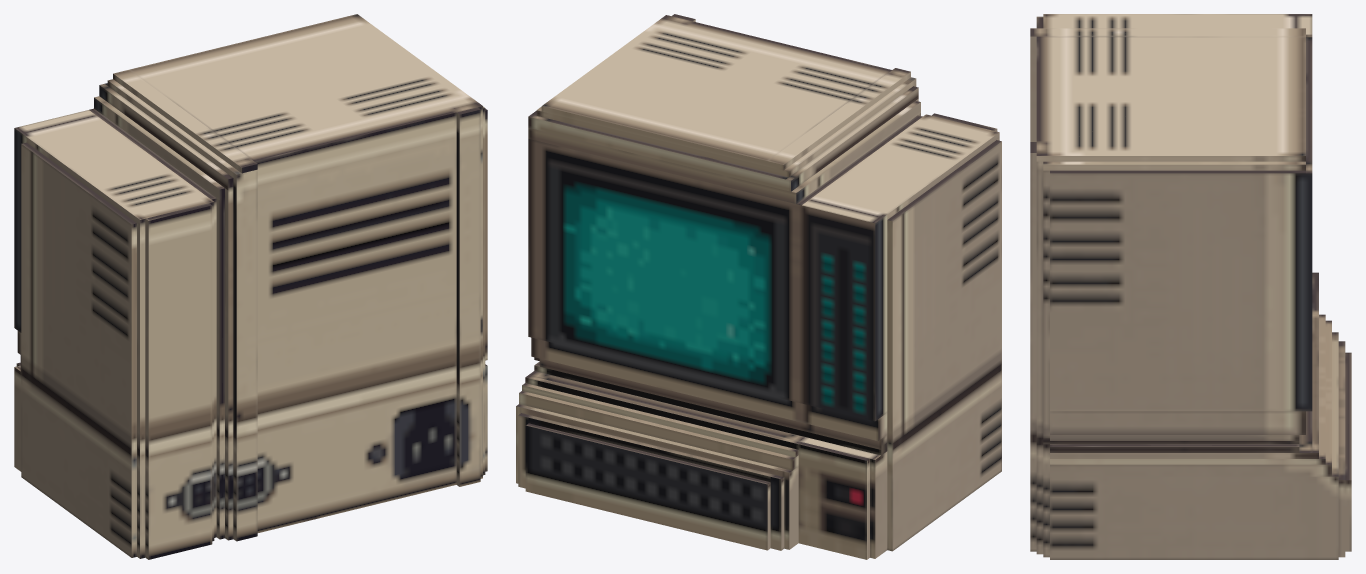
The model's file is pc_desktop.obj.
3 renders of one model, left to right at view 1: azimuth 30°, elevation 25°; view 2: azimuth 150°, elevation 25°; view 3: azimuth 270°, elevation 25°, orthographic. The views are drawn at different scales.
Bounding box in the file's own units: 67 × 67 × 49.
Materials: 1 (1 with a texture image).
